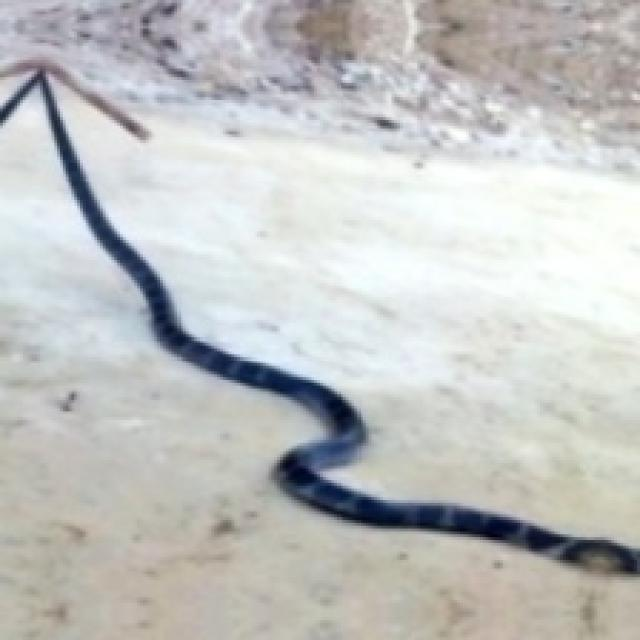king cobra: (0, 69, 637, 569), (9, 346, 637, 637)
